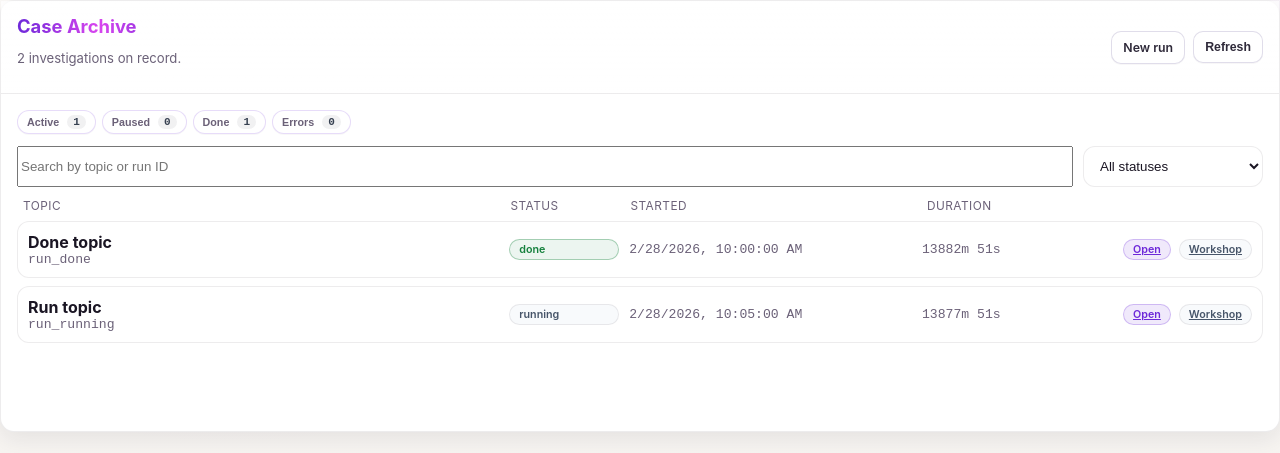
RunsListPage › supports status filtering and refresh reload
Expected: the text "Done topic" is shown, left=28, top=232, right=112, bottom=252
Select "done" in the dropdown named "Runs status filter" at (1173, 167), box left=1083, top=146, right=1263, bottom=187
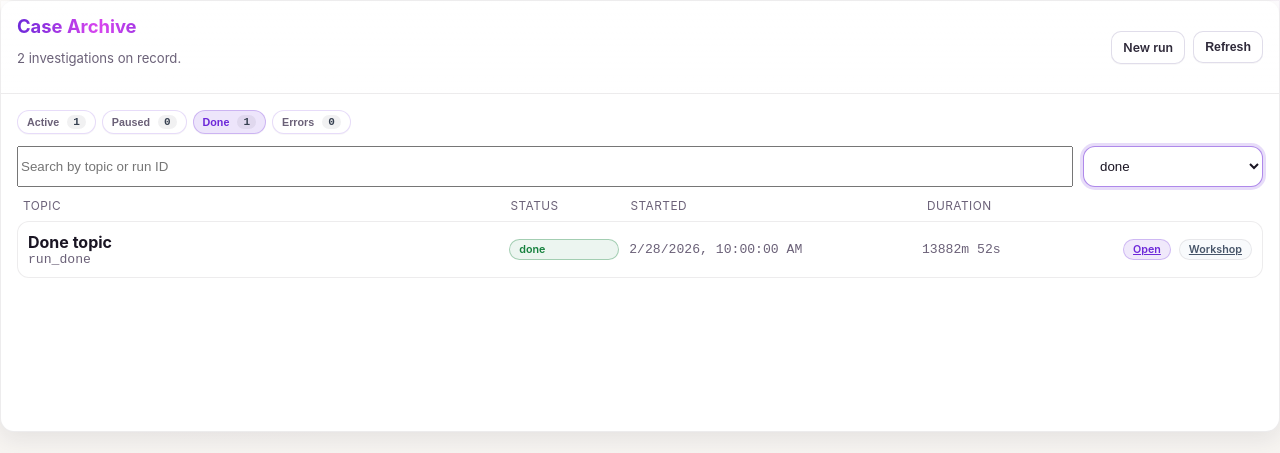
Expected: the text "Done topic" is shown, left=28, top=232, right=112, bottom=252
Expected: the text "Run topic" is gone
Click the button "Refresh" at (1228, 47), box left=1193, top=31, right=1263, bottom=63
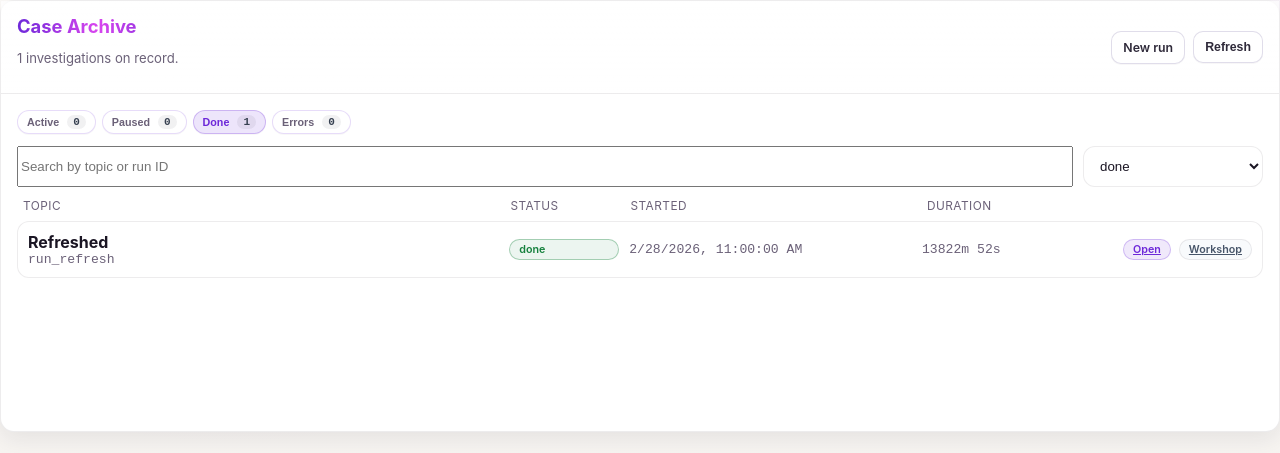
Expected: the text "Refreshed" is shown, left=28, top=232, right=108, bottom=252
